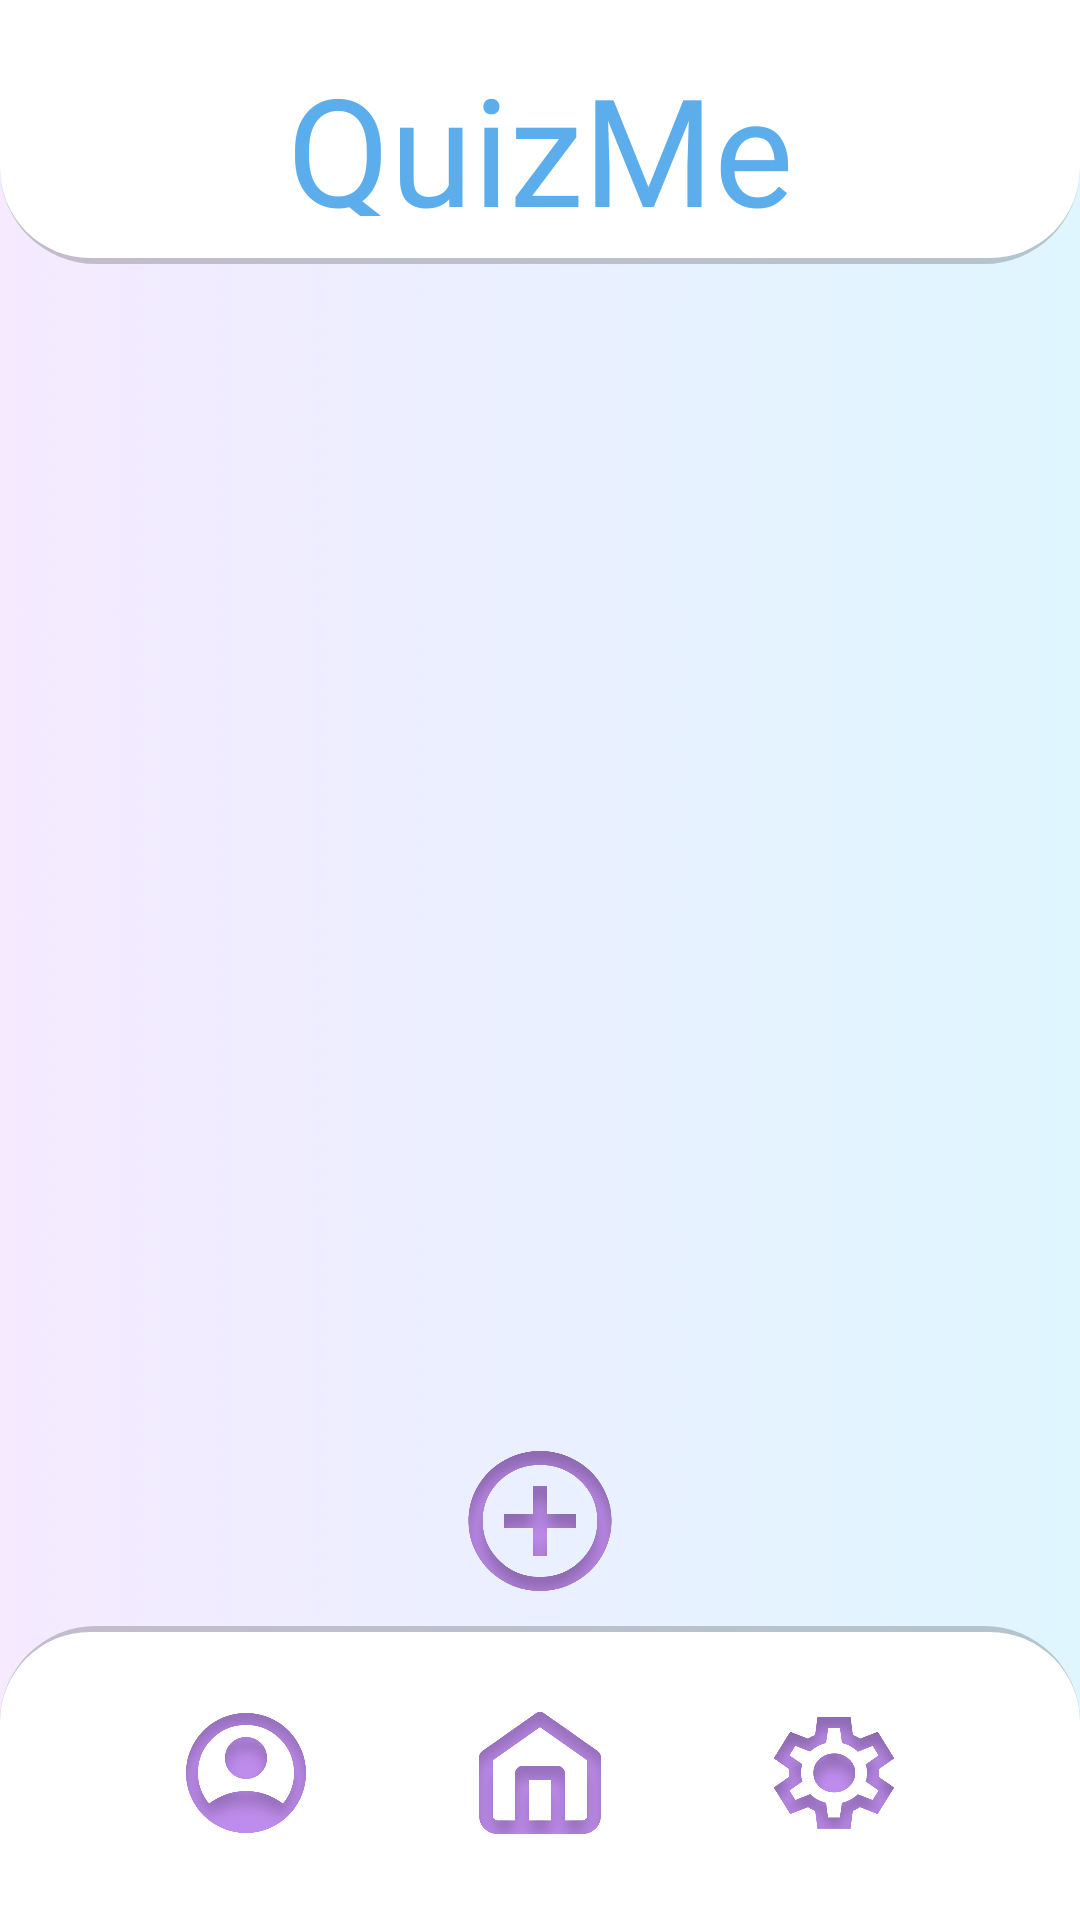

Named icons in this screenshot (1080 × 1920) and their centers, (x,y):
home: (540,1773)
profile: (246,1773)
settings: (834,1773)
